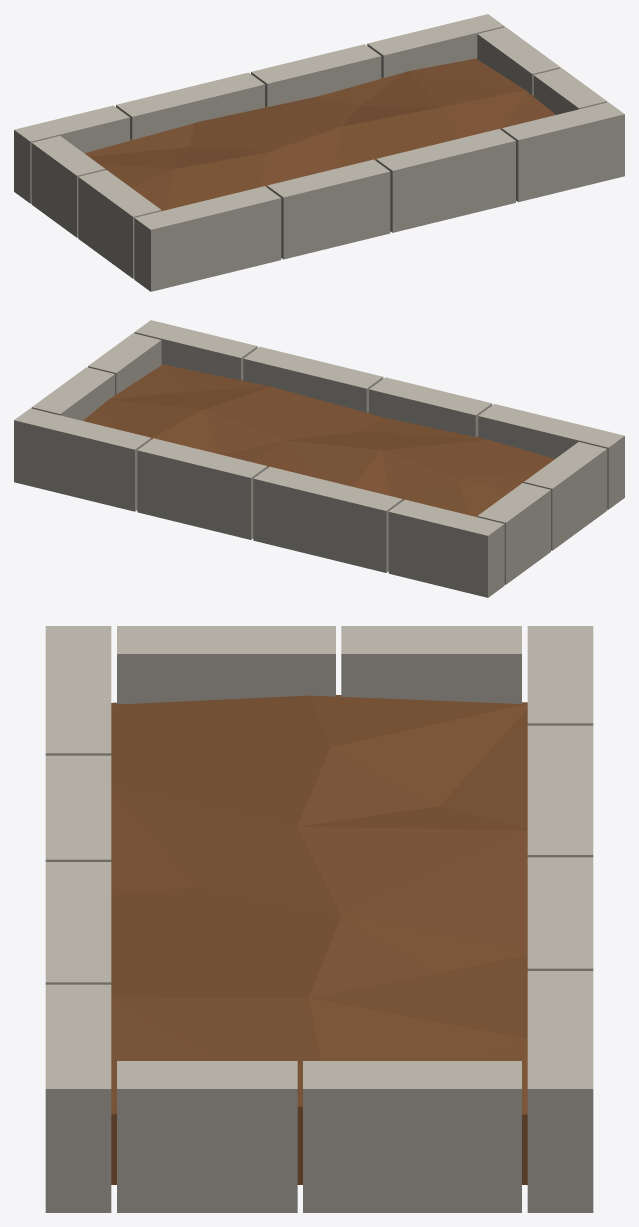
File: FMS_Garden_Bed_Straight.fbx
The picture shows the model from 3 angles, top to bottom: view 1: azimuth 30°, elevation 25°; view 2: azimuth 150°, elevation 25°; view 3: azimuth 270°, elevation 25°; orthographic projection. The views are drawn at different scales.
Parts seen in each view (by area): view 1: FMS_Garden_Bed_Straight_Body; view 2: FMS_Garden_Bed_Straight_Body; view 3: FMS_Garden_Bed_Straight_Body.
Part boxes in pixels (left/top/right/bottom): FMS_Garden_Bed_Straight_Body: left=14, top=14, right=624, bottom=291; FMS_Garden_Bed_Straight_Body: left=14, top=320, right=624, bottom=597; FMS_Garden_Bed_Straight_Body: left=45, top=626, right=593, bottom=1212.
Size of the model in its own units: 2 by 0.25 by 1.
